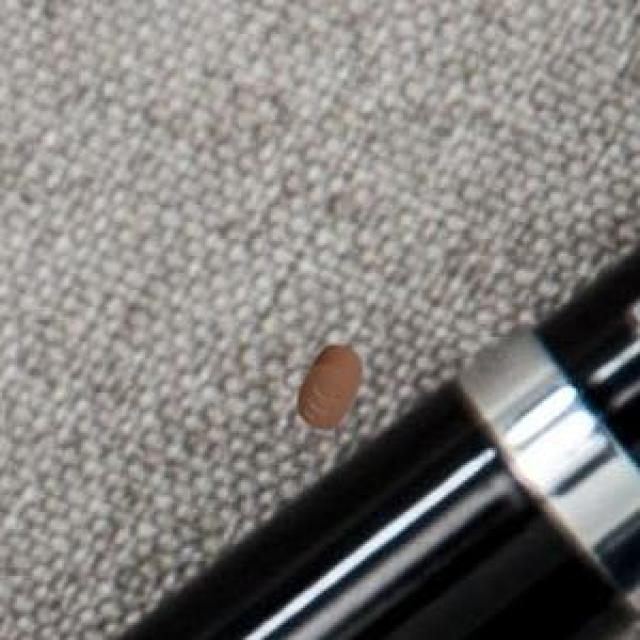Biogesic: (270, 313, 388, 462)
